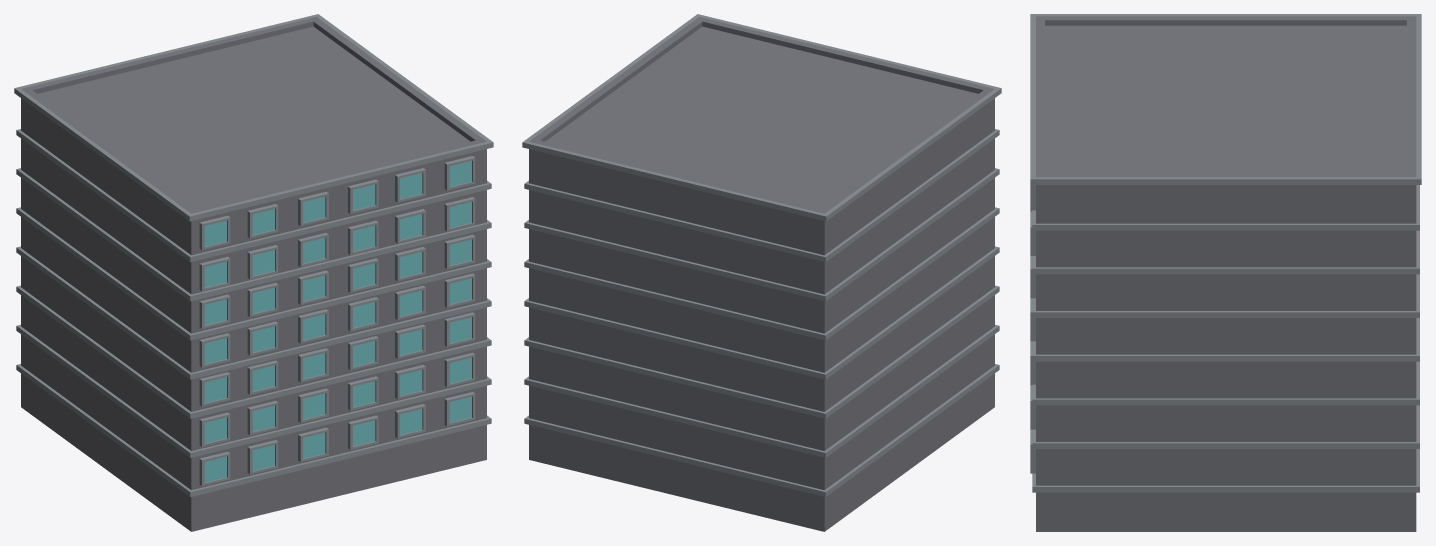
Rendered from Flat3.fbx.
The picture shows the model from 3 angles, left to right: view 1: azimuth 30°, elevation 25°; view 2: azimuth 150°, elevation 25°; view 3: azimuth 270°, elevation 25°; orthographic projection. The views are drawn at different scales.
Parts seen in each view (by area): view 1: Flat3; view 2: Flat3; view 3: Flat3.
Boxes of the visible parts, <box> form: Flat3: <box>14,14,493,531</box>; Flat3: <box>522,14,1001,531</box>; Flat3: <box>1030,14,1421,531</box>.
Size of the model in its own units: 800 by 800 by 800.
